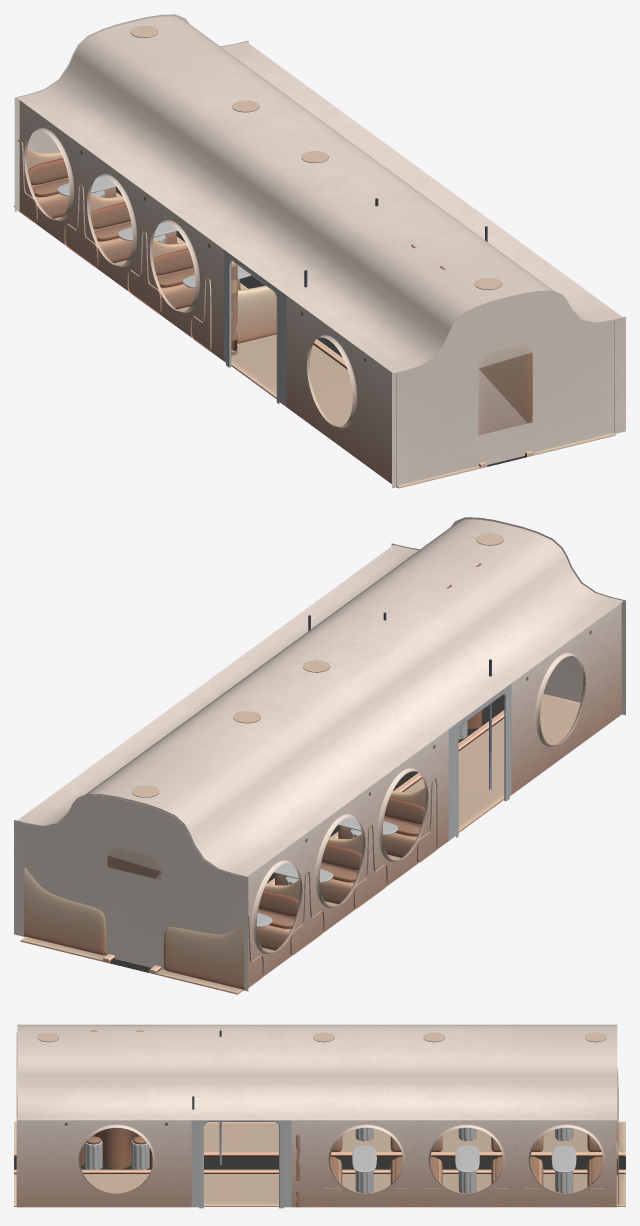
Rendered from train_int_updated.fbx.
3 views of the same model, one above another, from view 1: azimuth 30°, elevation 25°; view 2: azimuth 150°, elevation 25°; view 3: azimuth 270°, elevation 25° (orthographic). The views are drawn at different scales.
Parts seen in each view (by area): view 1: SM_carriage_roof, SM_floor, SM_int_windowWall_R_04, SM_int_windowWall_R_01, door1_SM_int_insidedoor__6, SM_int_windowWall_R_02, SM_int_windowWall_R_03, SM_seatSingle_03 (×2), SM_seatSingle_05 (×2), SM_int_doorFrame_R, SM_int_wall50cm_R_02, SM_int_wall50cm_R_03 (+4 smaller); view 2: SM_carriage_roof, SM_seatSingle_03 (×3), SM_floor, SM_int_windowWall_R_04, SM_int_windowWall_R_03, SM_int_windowWall_R_02, SM_int_windowWall_R_01, SM_seatSingle_05 (×2), SM_int_doorFrame_R, SM_int_wall50cm_R_03, SM_int_wall50cm_R_02, SM_int_wall50cm_R_04 (+4 smaller); view 3: SM_carriage_roof, SM_floor, SM_int_windowWall_L_04, SM_int_windowWall_L_02, SM_int_windowWall_L_03, SM_int_windowWall_L_01, SM_int_doorFrame_L, SM_int_wall50cm_L_03, SM_int_wall50cm_L_02, SM_int_wall50cm_L_01, SM_int_wall50cm_L_04, SM_table_top_01 (×3) (+7 smaller).
Boxes of the visible parts, box(x1,y1,x2,y2) form: SM_carriage_roof: box(14, 14, 625, 488); SM_floor: box(14, 187, 615, 488); SM_int_windowWall_R_04: box(302, 307, 365, 464); SM_int_windowWall_R_01: box(19, 100, 82, 256); door1_SM_int_insidedoor__6: box(478, 344, 532, 435); SM_int_windowWall_R_02: box(82, 146, 145, 302); SM_int_windowWall_R_03: box(145, 192, 207, 348); SM_seatSingle_03 (×2): box(18, 139, 276, 350); SM_seatSingle_05 (×2): box(64, 184, 240, 313); SM_int_doorFrame_R: box(224, 250, 286, 406); SM_int_wall50cm_R_02: box(286, 296, 302, 418); SM_int_wall50cm_R_03: box(365, 353, 380, 475); SM_carriage_roof: box(14, 517, 625, 991); SM_seatSingle_03 (×3): box(24, 779, 437, 990); SM_floor: box(20, 694, 580, 994); SM_int_windowWall_R_04: box(527, 626, 590, 783); SM_int_windowWall_R_03: box(370, 741, 432, 897); SM_int_windowWall_R_02: box(307, 787, 369, 943); SM_int_windowWall_R_01: box(247, 833, 306, 986); SM_seatSingle_05 (×2): box(257, 825, 387, 954); SM_int_doorFrame_R: box(448, 683, 511, 840); SM_int_wall50cm_R_03: box(590, 614, 606, 737); SM_int_wall50cm_R_02: box(511, 672, 527, 794); SM_int_wall50cm_R_04: box(606, 603, 621, 725); SM_carriage_roof: box(17, 1024, 617, 1120); SM_floor: box(14, 1121, 625, 1206); SM_int_windowWall_L_04: box(66, 1120, 166, 1207); SM_int_windowWall_L_02: box(416, 1120, 516, 1207); SM_int_windowWall_L_03: box(316, 1120, 416, 1207); SM_int_windowWall_L_01: box(516, 1120, 616, 1207); SM_int_doorFrame_L: box(191, 1120, 291, 1208); SM_int_wall50cm_L_03: box(16, 1117, 41, 1207); SM_int_wall50cm_L_02: box(41, 1120, 66, 1207); SM_int_wall50cm_L_01: box(166, 1120, 191, 1207); SM_int_wall50cm_L_04: box(291, 1120, 316, 1207); SM_table_top_01 (×3): box(352, 1145, 576, 1172).
Size of the model in its own units: 51.56 by 35.53 by 147.
